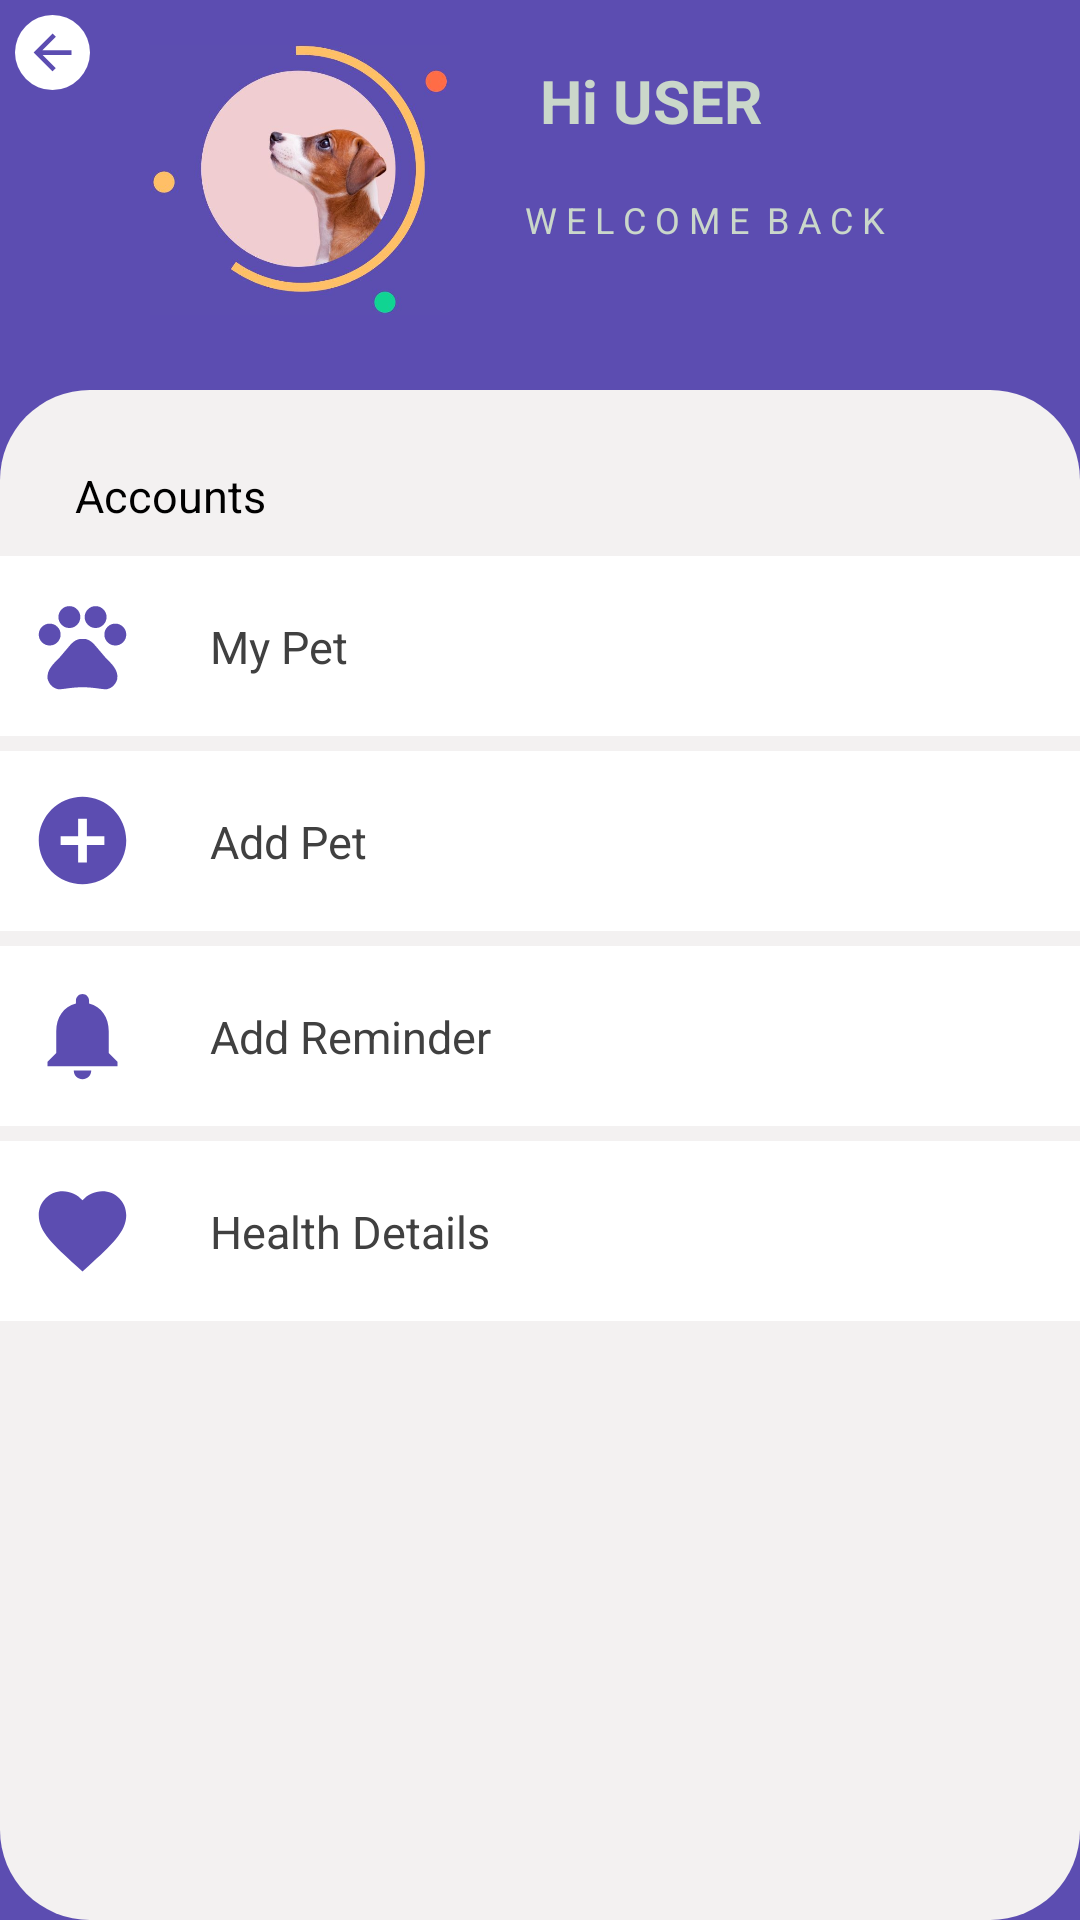

Named icons in this screenshot (1080x1920) and their bounding boxes, (x1, y1, x2, y2):
back: (15, 15, 90, 90)
notification: (47, 994, 118, 1080)
pets: (38, 606, 127, 690)
